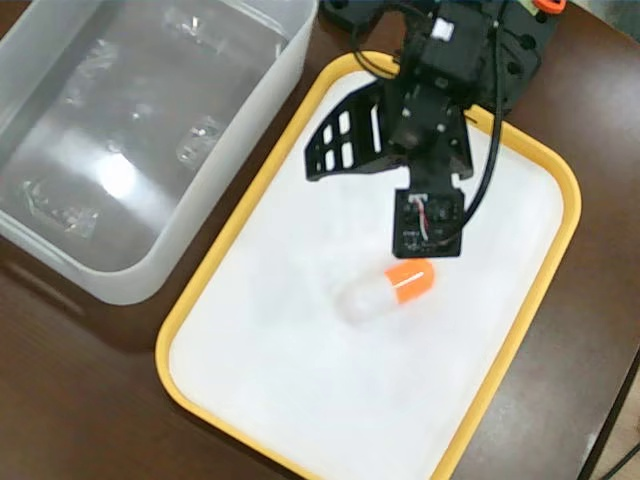pill: (335, 259, 438, 323)
